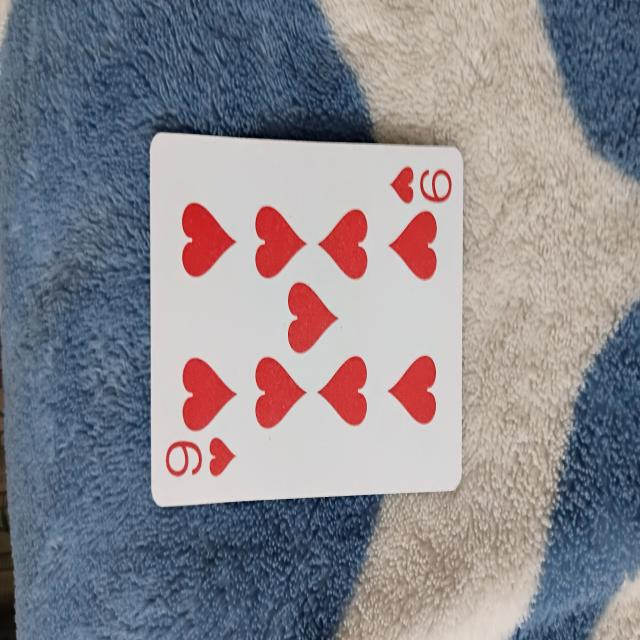9H: (148, 134, 464, 495)
